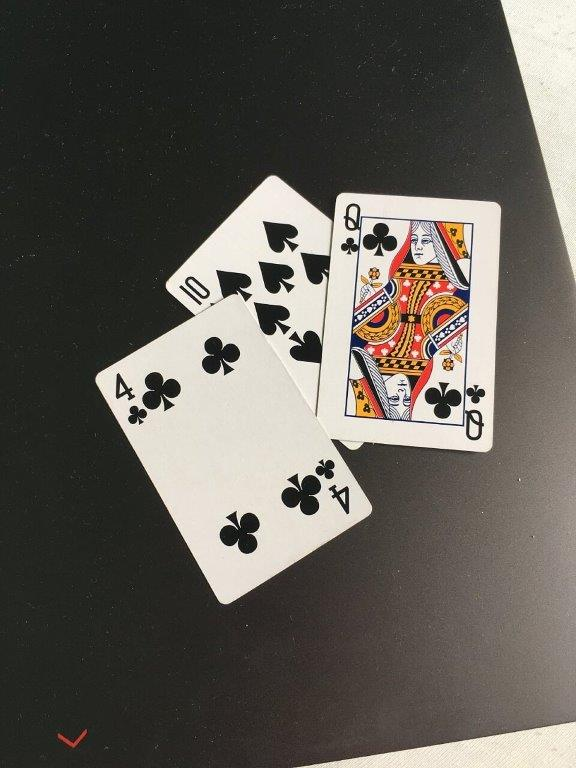4C: (111, 369, 149, 430)
QC: (338, 200, 363, 257)
